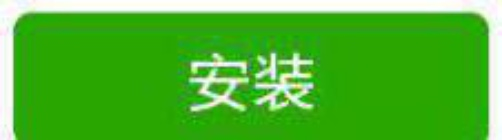Button: (1, 1, 501, 139)
